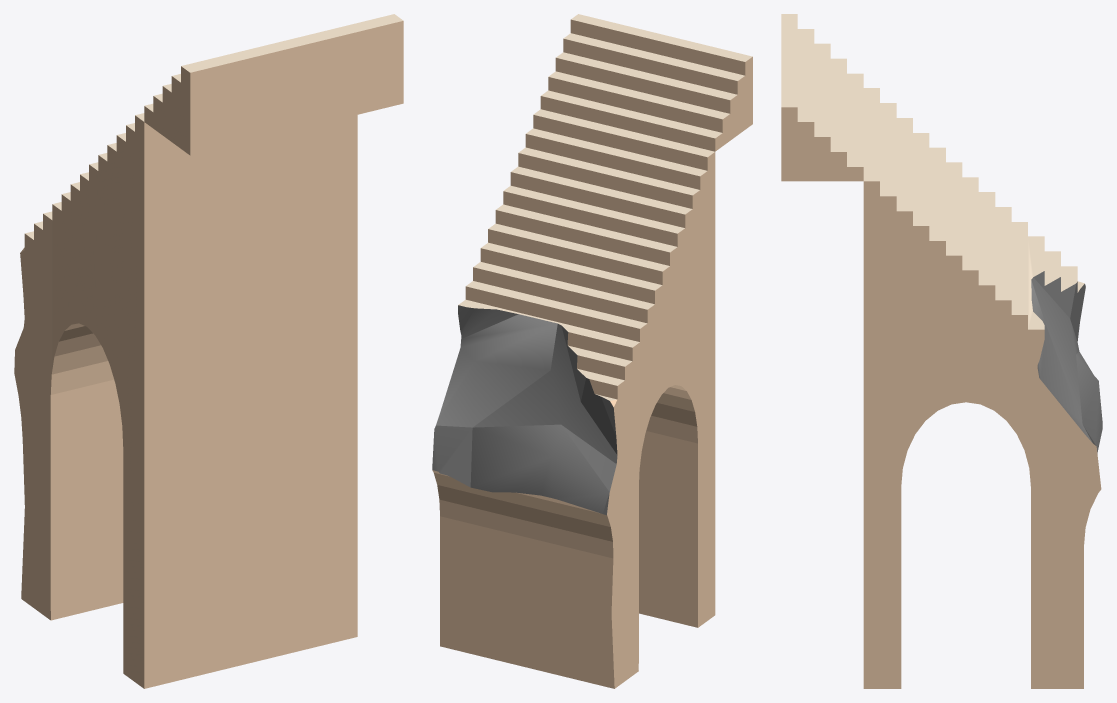
Rendered from LS_A_Stairs.fbx.
The picture shows the model from 3 angles, left to right: view 1: azimuth 30°, elevation 25°; view 2: azimuth 150°, elevation 25°; view 3: azimuth 270°, elevation 25°; orthographic projection. The views are drawn at different scales.
Parts seen in each view (by area): view 1: LS_A_stairs; view 2: LS_A_stairs; view 3: LS_A_stairs.
Boxes of the visible parts, x1,y1,x2,y2 form: LS_A_stairs: [14, 14, 403, 688]; LS_A_stairs: [432, 14, 752, 688]; LS_A_stairs: [781, 14, 1102, 688].
Size of the model in its own units: 771 by 2244 by 1124.
